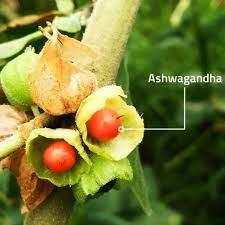healthy_leaf: (7, 2, 172, 225)
